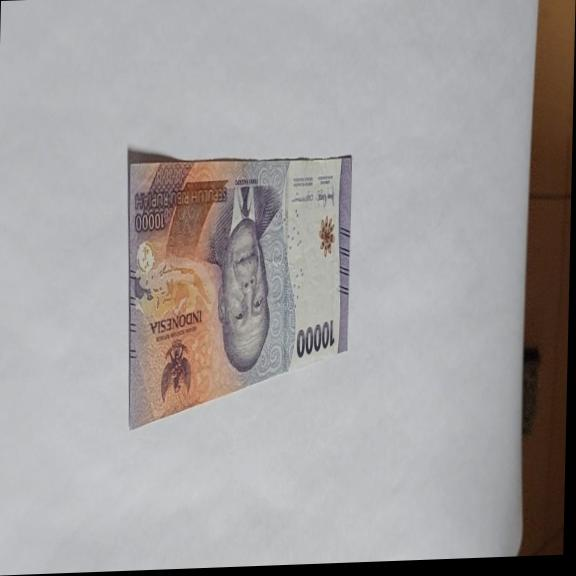Kertas: (120, 142, 353, 431)
